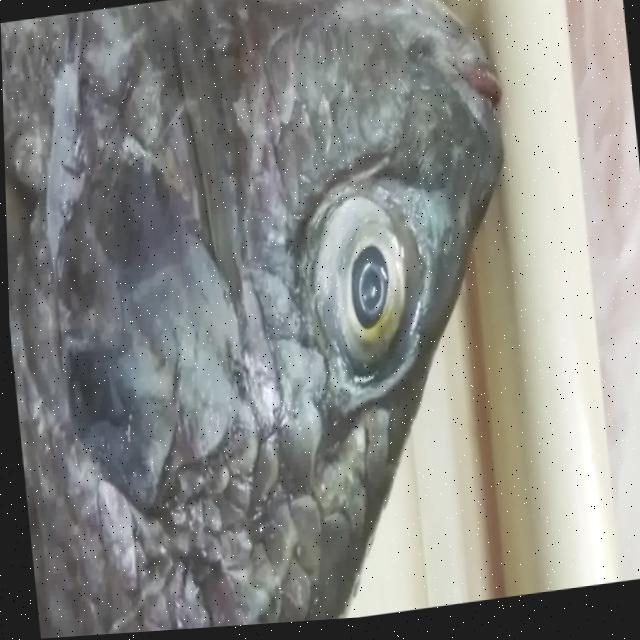Non-Fresh: (282, 148, 455, 405)
